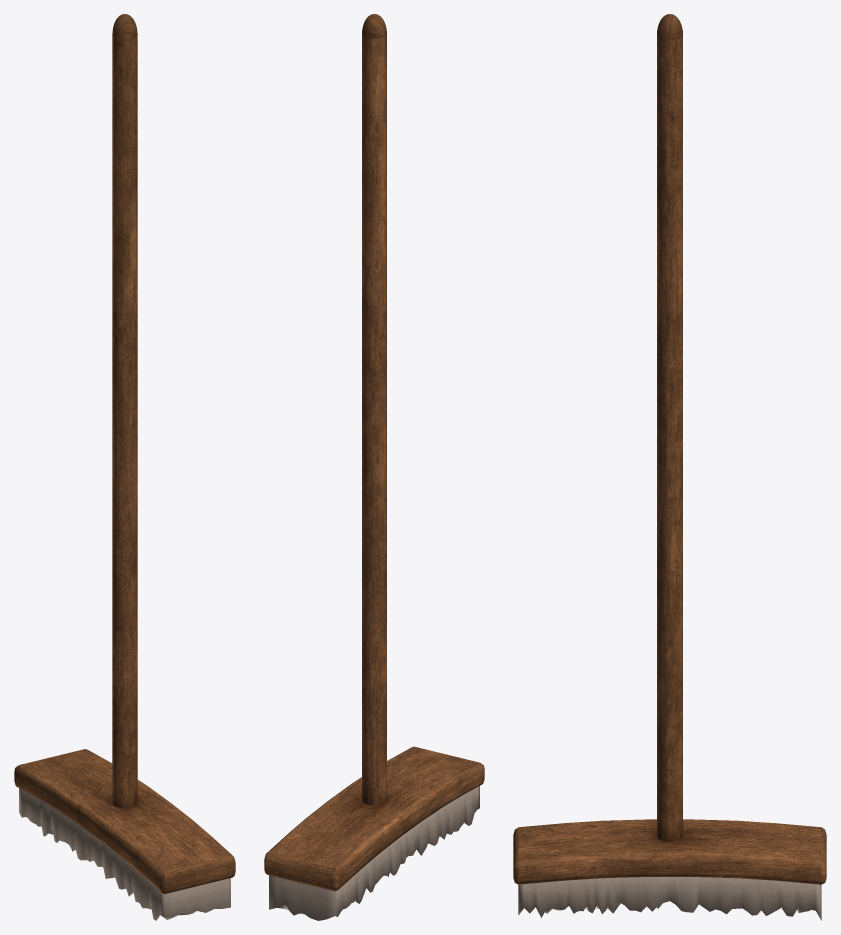
Rendered from broom.glb.
3 views of the same model, side by side, from view 1: azimuth 30°, elevation 25°; view 2: azimuth 150°, elevation 25°; view 3: azimuth 270°, elevation 25° (orthographic). The views are drawn at different scales.
Visible parts, largest first — view 1: broom; view 2: broom; view 3: broom.
Part boxes in pixels (<box>): broom: <box>14,14,235,920</box>; broom: <box>264,14,484,920</box>; broom: <box>513,14,826,920</box>.
Bounding box in the file's own units: 0.1409 × 1.53 × 0.4893.
Materials: 1 (1 with a texture image).
